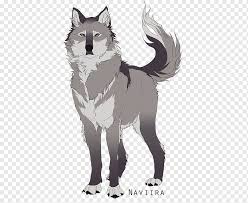Lobo: (53, 3, 171, 203)
